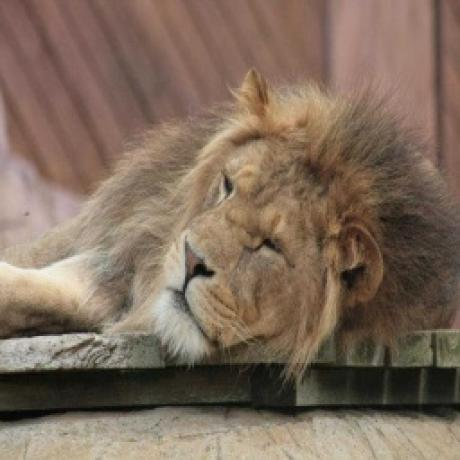Lion: (0, 65, 460, 370)
